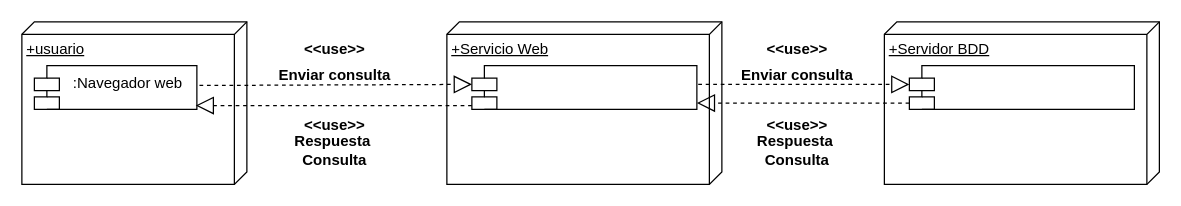
Image size: 1181x206. Some labels were removed from this diagram. The shapes that lost their labels are listed below. From the top down, each one's centre as x and y in pixels, then its label:
At [584,86]: ":Navegador web DuocSwap".
At [1021,86]: ":Motor MariaDB".
